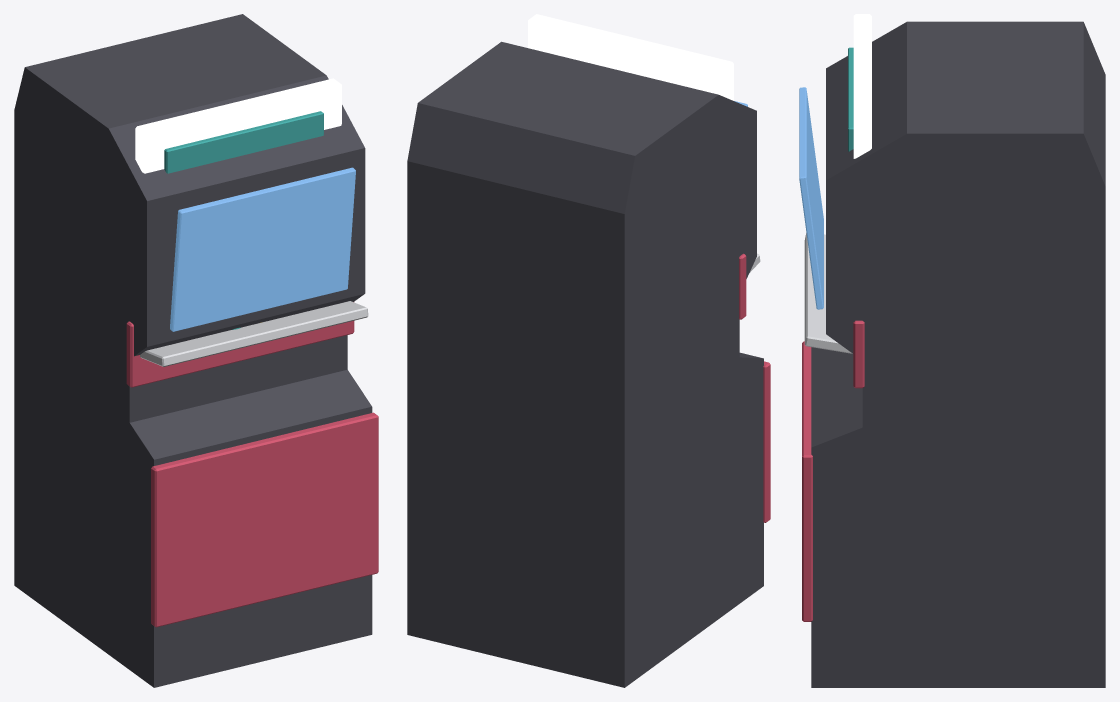
The model's file is cinema-multiplex-and-foyer-arcade-cabinet-85302f3a__34686.glb.
The picture shows the model from 3 angles, left to right: view 1: azimuth 30°, elevation 25°; view 2: azimuth 150°, elevation 25°; view 3: azimuth 270°, elevation 25°; orthographic projection. The views are drawn at different scales.
Parts seen in each view (by area): view 1: arcade-cabinet; view 2: arcade-cabinet; view 3: arcade-cabinet.
Boxes of the visible parts, box(x1,y1,x2,y2) form: arcade-cabinet: box(14, 14, 378, 687); arcade-cabinet: box(407, 14, 770, 687); arcade-cabinet: box(799, 14, 1105, 687).
Bounding box in the file's own units: 0.74 × 1.7 × 0.8324.
